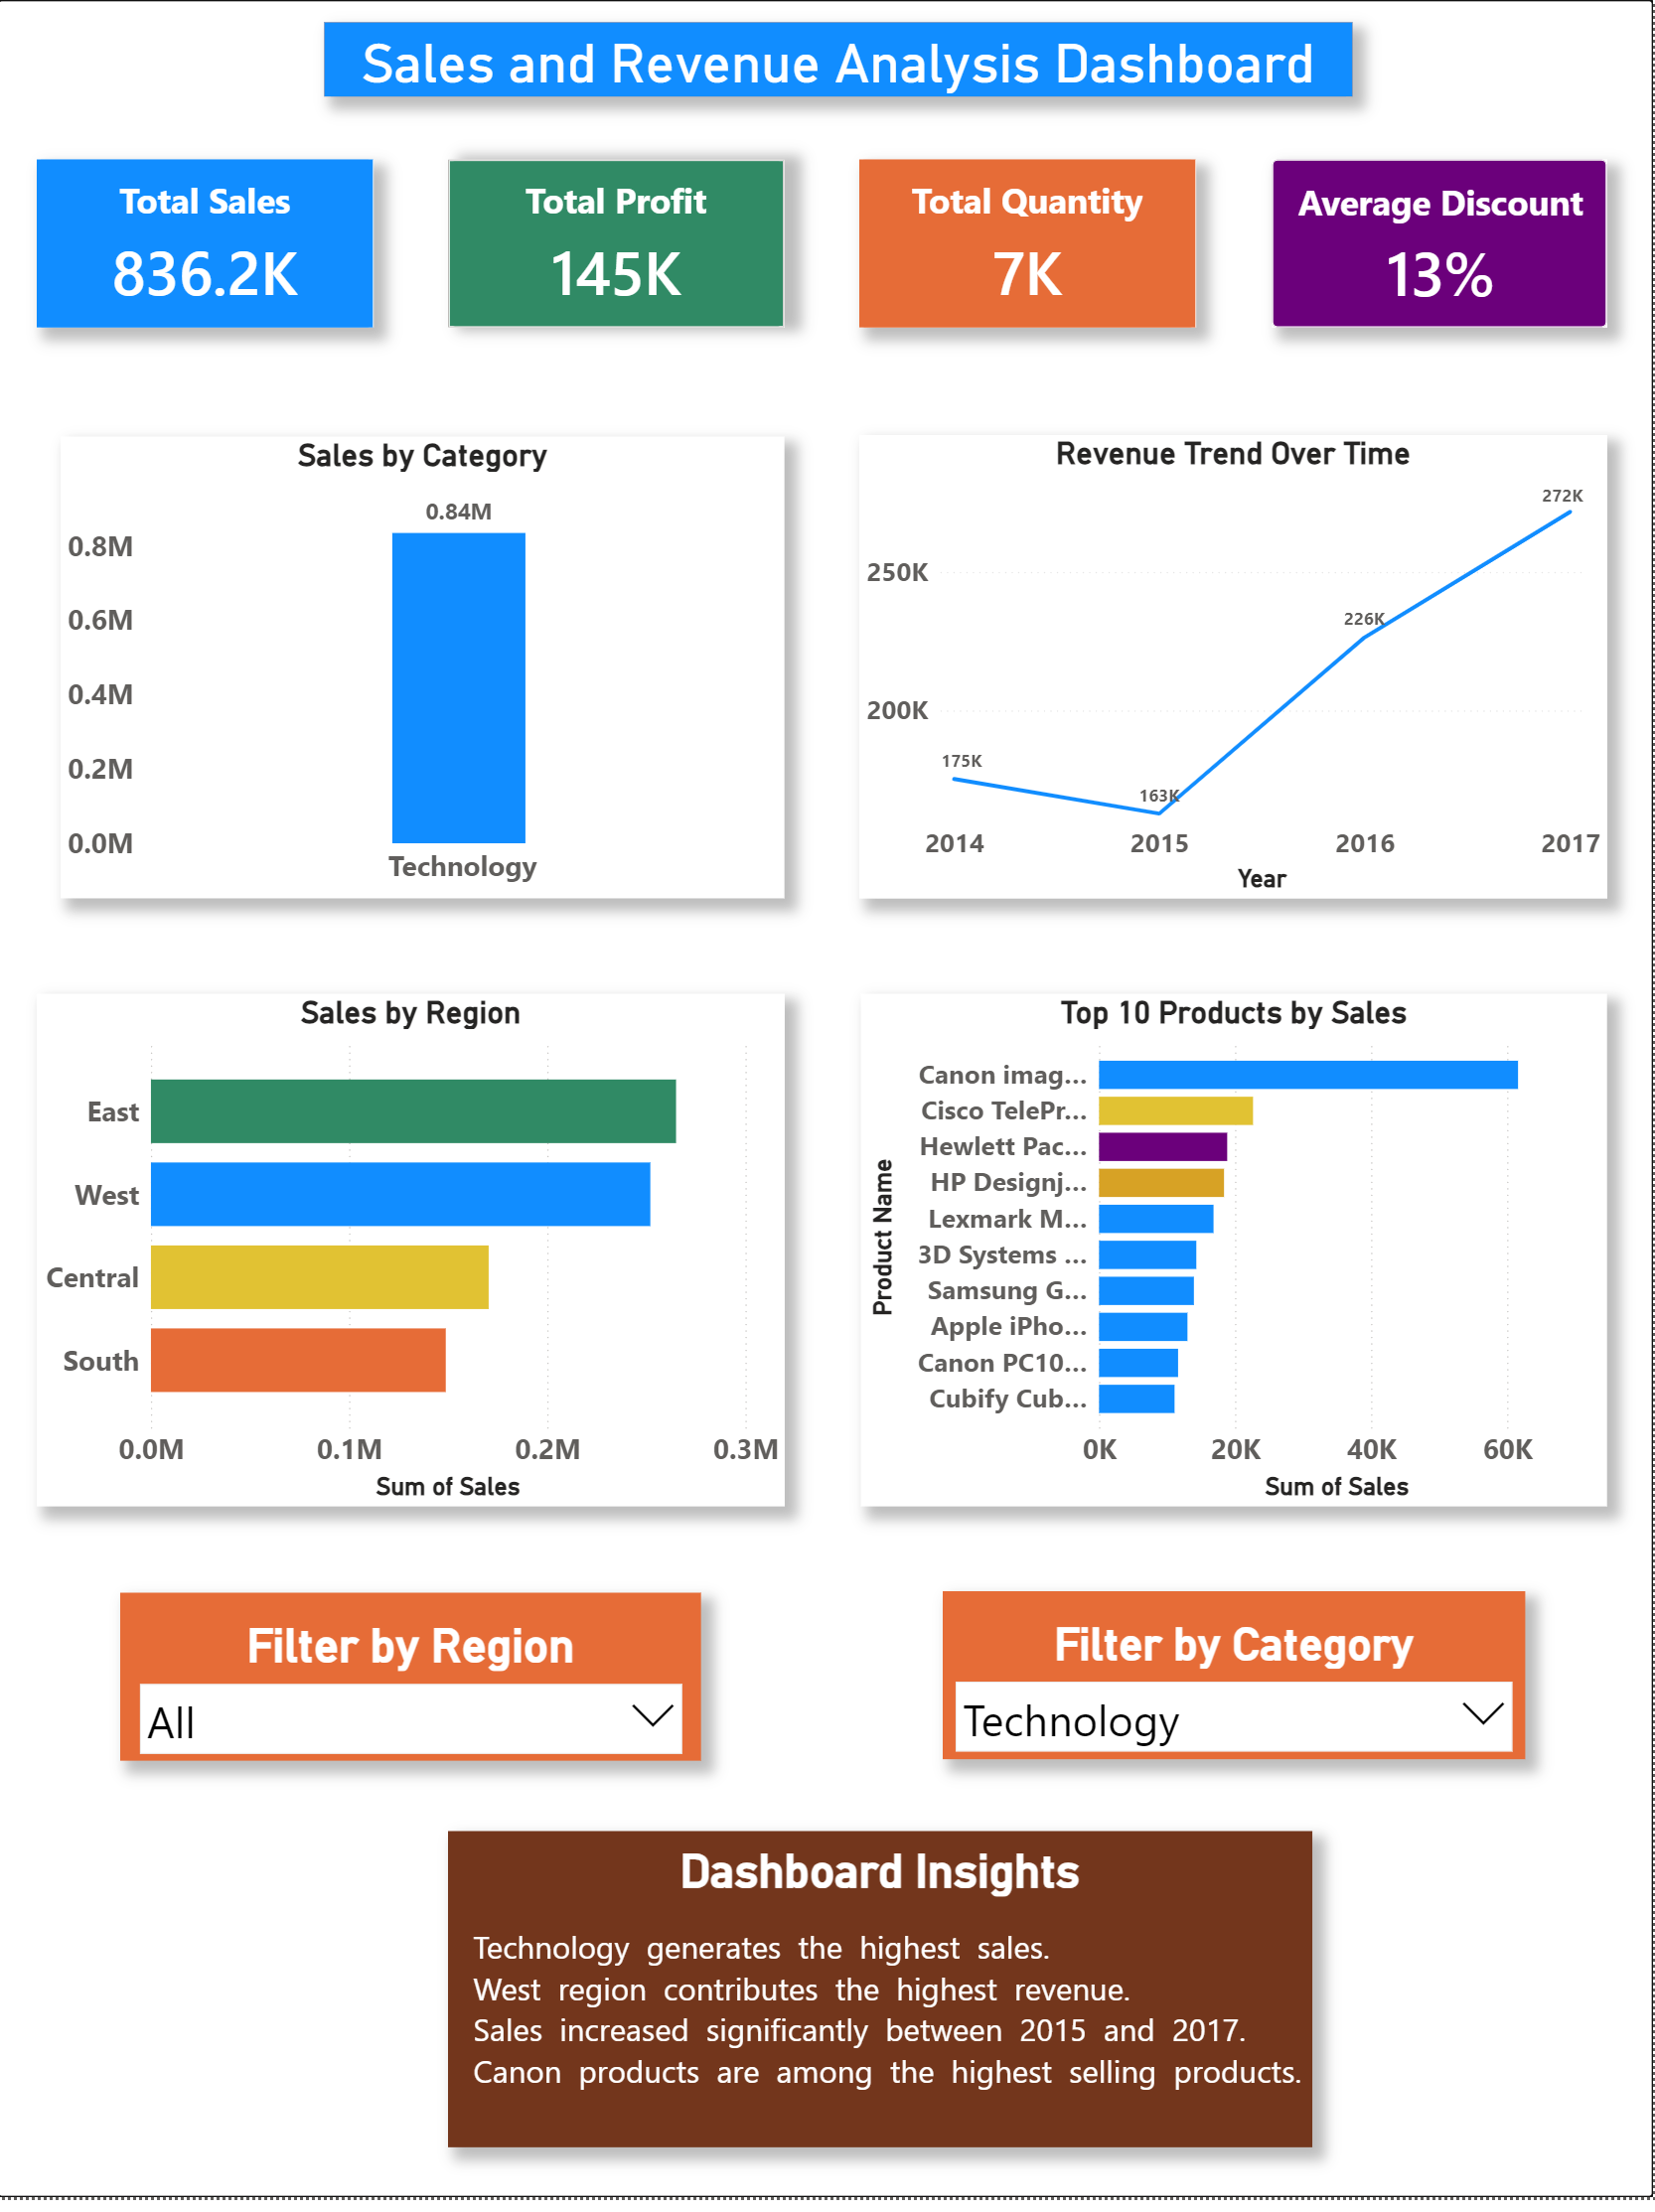

This screenshot's page, from the dashboard's own definition file:
{"tool":"powerbi","page":{"name":"Page 1","canvas":[1280,1700],"ordinal":0},"visuals":[{"type":"cardVisual","title":"Total Sales","fields":{"Data":["Sum(Sales_Data.Sales)"]},"box":[30,123.4,260.5,130.3],"z":0},{"type":"cardVisual","fields":{"Data":["Sum(Sales_Data.Profit)"]},"box":[348.1,123.4,260.5,130.3],"z":1000},{"type":"cardVisual","fields":{"Data":["Sum(Sales_Data.Quantity)"]},"box":[666.3,123.4,260.5,130.3],"z":2000},{"type":"cardVisual","fields":{"Data":["Avg(Sales_Data.Discount)"]},"box":[985.6,123.4,259.4,130.3],"z":3000},{"type":"textbox","title":"Sales and Revenue Analysis Dashboard","box":[252.2,17.3,795.1,57.1],"z":4000},{"type":"clusteredColumnChart","title":"Sales by Category","fields":{"Category":["Sales_Data.Category"],"Y":["Sum(Sales_Data.Sales)"]},"box":[48.4,337.8,560.3,357.4],"z":5000},{"type":"lineChart","title":"Revenue Trend Over Time","fields":{"Category":["Sales_Data.Order Date.Variation.Date Hierarchy.Year","Sales_Data.Order Date.Variation.Date Hierarchy.Quarter","Sales_Data.Order Date.Variation.Date Hierarchy.Month","Sales_Data.Order Date.Variation.Date Hierarchy.Day"],"Y":["Sum(Sales_Data.Sales)"]},"box":[666.3,336.6,578.7,358.5],"z":6000},{"type":"clusteredBarChart","title":"Sales by Region","fields":{"Category":["Sales_Data.Region"],"Y":["Sum(Sales_Data.Sales)"]},"box":[30.4,769.3,579,396.6],"z":7000},{"type":"clusteredBarChart","title":"Top 10 Products by Sales","fields":{"Category":["Sales_Data.Product Name"],"Y":["Sum(Sales_Data.Sales)"]},"box":[666.9,769.3,577.4,396.6],"z":8000},{"type":"slicer","title":"Filter by Region","fields":{"Values":["Sales_Data.Region"]},"box":[94.5,1232.4,449.6,130.3],"z":9000},{"type":"slicer","title":"Filter by Category","fields":{"Values":["Sales_Data.Category"]},"box":[730.9,1231.2,450.7,130.3],"z":10000},{"type":"textbox","title":"Dashboard Insights","box":[348.8,1417.1,697.6,244],"z":11000}]}

Visuals, with their boxes in screenshot pixels (x1, y1, x2, y2), scaled from the page's 1280x1700 canvas onto the 1655x2212 screenshot:
"Total Sales" cardVisual: box(39, 161, 376, 330)
cardVisual - Sum(Sales_Data.Profit): box(450, 161, 787, 330)
cardVisual - Sum(Sales_Data.Quantity): box(861, 161, 1198, 330)
cardVisual - Avg(Sales_Data.Discount): box(1275, 161, 1609, 330)
"Sales and Revenue Analysis Dashboard" textbox: box(326, 23, 1354, 96)
"Sales by Category" clusteredColumnChart: box(63, 440, 787, 905)
"Revenue Trend Over Time" lineChart: box(861, 438, 1609, 905)
"Sales by Region" clusteredBarChart: box(40, 1001, 788, 1517)
"Top 10 Products by Sales" clusteredBarChart: box(862, 1001, 1609, 1517)
"Filter by Region" slicer: box(122, 1603, 703, 1773)
"Filter by Category" slicer: box(945, 1602, 1528, 1772)
"Dashboard Insights" textbox: box(451, 1843, 1353, 2161)
